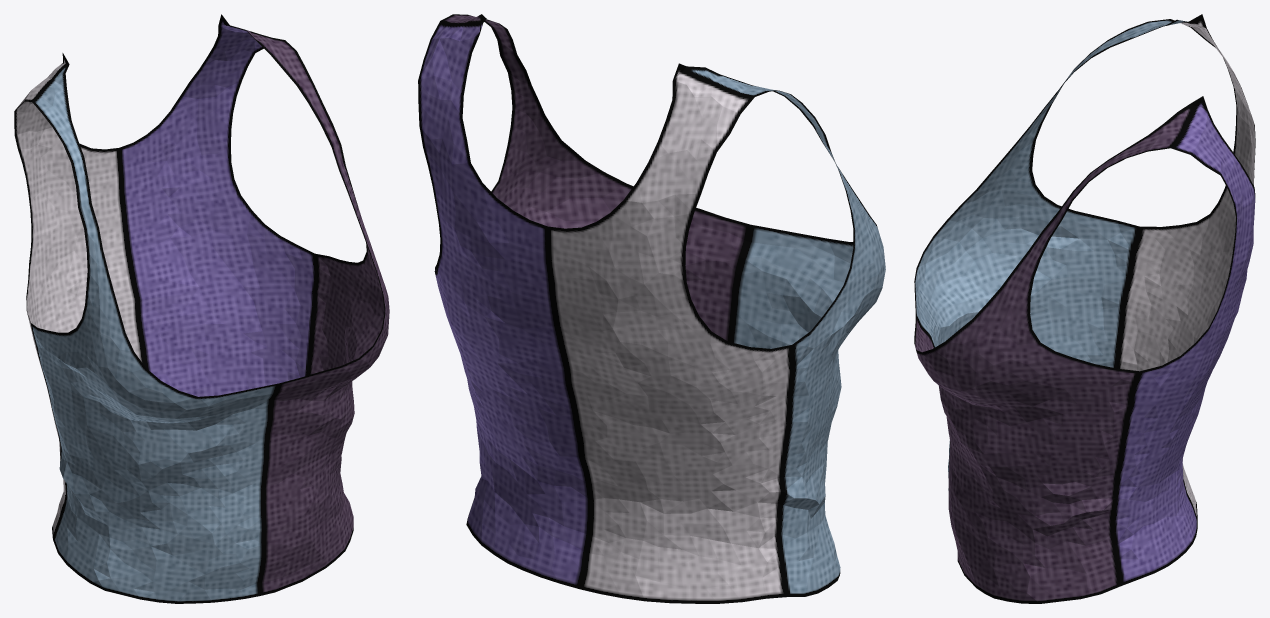
Rendered from tank_knit_f3_sim.obj.
3 renders of one model, left to right at view 1: azimuth 30°, elevation 25°; view 2: azimuth 150°, elevation 25°; view 3: azimuth 270°, elevation 25°, orthographic. The views are drawn at different scales.
Bounding box in the file's own units: 21.16 × 33.09 × 20.55.
1 material, 1 textured.
